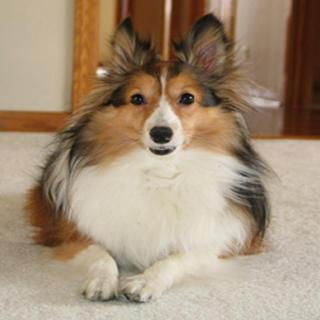dog: (84, 15, 246, 168)
nose: (147, 121, 176, 145)
